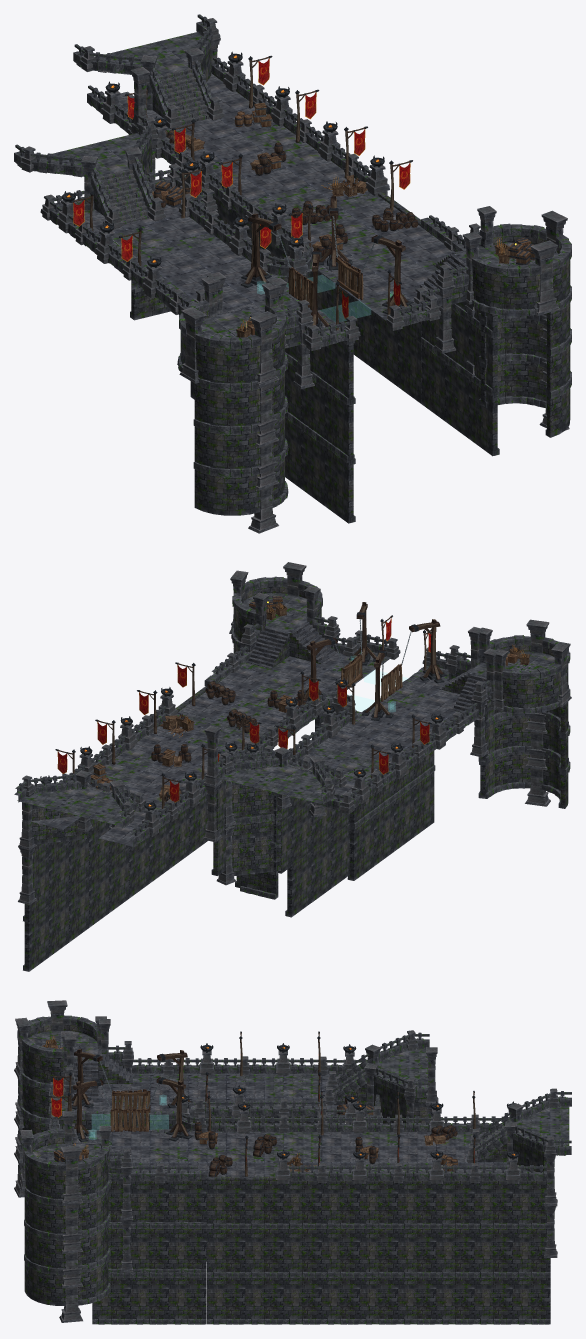
Rendered from ExterirorWallsAssets2.gltf.
The picture shows the model from 3 angles, top to bottom: view 1: azimuth 30°, elevation 25°; view 2: azimuth 150°, elevation 25°; view 3: azimuth 270°, elevation 25°; orthographic projection. The views are drawn at different scales.
Visible parts, largest first — view 1: P_MOD_Wall_01_E_straight_large (×16), P_MOD_Wall_01_E_concave_med (×7), P_MOD_Wall_01_M_concave_med (×3), P_PROP_cage_holder_dungeon (×3), P_MOD_Stairs_01_E_straight_2, P_MOD_Stairs_01_E_straight_2 (1), P_MOD_WallCover_01_M_concave (2) (×2), P_MOD_Column_01_large (×2), MOD_Floor_01_O_straight_med (13), MOD_Floor_01_O_straight_med (7), MOD_Floor_01_O_straight_med (30), MOD_Floor_01_O_straight_med (44) (+19 smaller); view 2: P_MOD_Wall_01_E_straight_large (×23), P_MOD_Wall_01_E_angle_large_1 (×3), P_MOD_Wall_01_M_concave_med (×3), P_PROP_cage_holder_dungeon (×4), P_MOD_Wall_01_E_concave_med (×2), P_MOD_Stairs_01_E_straight_2_half (1) (×2), P_MOD_Wall_01_E_straight_large_half_R (×2), P_MOD_Stairs_01_E_straight_2_half, P_MOD_Floor_01_O_straight_med (1), MOD_Floor_01_O_straight_med (18), P_MOD_Floor_01_O_straight_med, MOD_Floor_01_O_straight_med (44) (+17 smaller); view 3: P_MOD_Wall_01_E_straight_large (×36), P_MOD_Wall_01_M_concave_med (×6), P_MOD_Wall_01_E_concave_med (×4), P_PROP_cage_holder_dungeon (×4), P_MOD_Wall_01_E_angle_large_1 (×2), P_PROP_woodbridge_dungeon_09, P_PROP_woodbridge_dungeon_09 (1), MOD_Floor_01_O_straight_med (19), MOD_Floor_01_O_straight_med (43), MOD_Floor_01_O_straight_med (33), MOD_Floor_01_O_straight_med (7), MOD_Floor_01_O_straight_med (13) (+33 smaller).
Part boxes in pixels (x1=…): P_MOD_Wall_01_E_straight_large (×16): x1=131, y1=280, x2=497, y2=523; P_MOD_Wall_01_E_concave_med (×7): x1=194, y1=303, x2=570, y2=515; P_MOD_Wall_01_M_concave_med (×3): x1=472, y1=266, x2=546, y2=406; P_PROP_cage_holder_dungeon (×3): x1=240, y1=195, x2=412, y2=314; P_MOD_Stairs_01_E_straight_2: x1=158, y1=68, x2=209, y2=124; P_MOD_Stairs_01_E_straight_2 (1): x1=99, y1=169, x2=150, y2=224; P_MOD_WallCover_01_M_concave (2) (×2): x1=471, y1=223, x2=546, y2=277; P_MOD_Column_01_large (×2): x1=254, y1=252, x2=553, y2=373; MOD_Floor_01_O_straight_med (13): x1=246, y1=168, x2=309, y2=195; MOD_Floor_01_O_straight_med (7): x1=203, y1=133, x2=262, y2=160; MOD_Floor_01_O_straight_med (30): x1=147, y1=217, x2=208, y2=242; MOD_Floor_01_O_straight_med (44): x1=182, y1=241, x2=246, y2=268; P_MOD_Wall_01_E_straight_large (×23): x1=24, y1=772, x2=434, y2=971; P_MOD_Wall_01_E_angle_large_1 (×3): x1=32, y1=765, x2=280, y2=876; P_MOD_Wall_01_M_concave_med (×3): x1=480, y1=672, x2=560, y2=798; P_PROP_cage_holder_dungeon (×4): x1=304, y1=602, x2=447, y2=720; P_MOD_Wall_01_E_concave_med (×2): x1=543, y1=720, x2=568, y2=808; P_MOD_Stairs_01_E_straight_2_half (1) (×2): x1=290, y1=621, x2=495, y2=722; P_MOD_Wall_01_E_straight_large_half_R (×2): x1=213, y1=815, x2=291, y2=875; P_MOD_Stairs_01_E_straight_2_half: x1=246, y1=627, x2=289, y2=668; P_MOD_Floor_01_O_straight_med (1): x1=262, y1=766, x2=313, y2=787; MOD_Floor_01_O_straight_med (18): x1=220, y1=667, x2=273, y2=689; P_MOD_Floor_01_O_straight_med: x1=64, y1=788, x2=114, y2=810; MOD_Floor_01_O_straight_med (44): x1=319, y1=731, x2=372, y2=753; P_MOD_Wall_01_E_straight_large (×36): x1=92, y1=1176, x2=550, y2=1319; P_MOD_Wall_01_M_concave_med (×6): x1=22, y1=1046, x2=108, y2=1299; P_MOD_Wall_01_E_concave_med (×4): x1=24, y1=1160, x2=66, y2=1305; P_PROP_cage_holder_dungeon (×4): x1=71, y1=1049, x2=193, y2=1142; P_MOD_Wall_01_E_angle_large_1 (×2): x1=374, y1=1081, x2=546, y2=1171; P_PROP_woodbridge_dungeon_09: x1=110, y1=1108, x2=148, y2=1131; P_PROP_woodbridge_dungeon_09 (1): x1=111, y1=1089, x2=150, y2=1112; MOD_Floor_01_O_straight_med (19): x1=150, y1=1146, x2=188, y2=1162; MOD_Floor_01_O_straight_med (43): x1=188, y1=1081, x2=226, y2=1097; MOD_Floor_01_O_straight_med (33): x1=283, y1=1081, x2=321, y2=1097; MOD_Floor_01_O_straight_med (7): x1=399, y1=1146, x2=436, y2=1162; MOD_Floor_01_O_straight_med (13): x1=321, y1=1146, x2=355, y2=1162.
Size of the model in its own units: 37.86 by 25.68 by 58.44.
18 materials, 17 textured.
